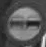No overtake: (3, 4, 42, 42)
